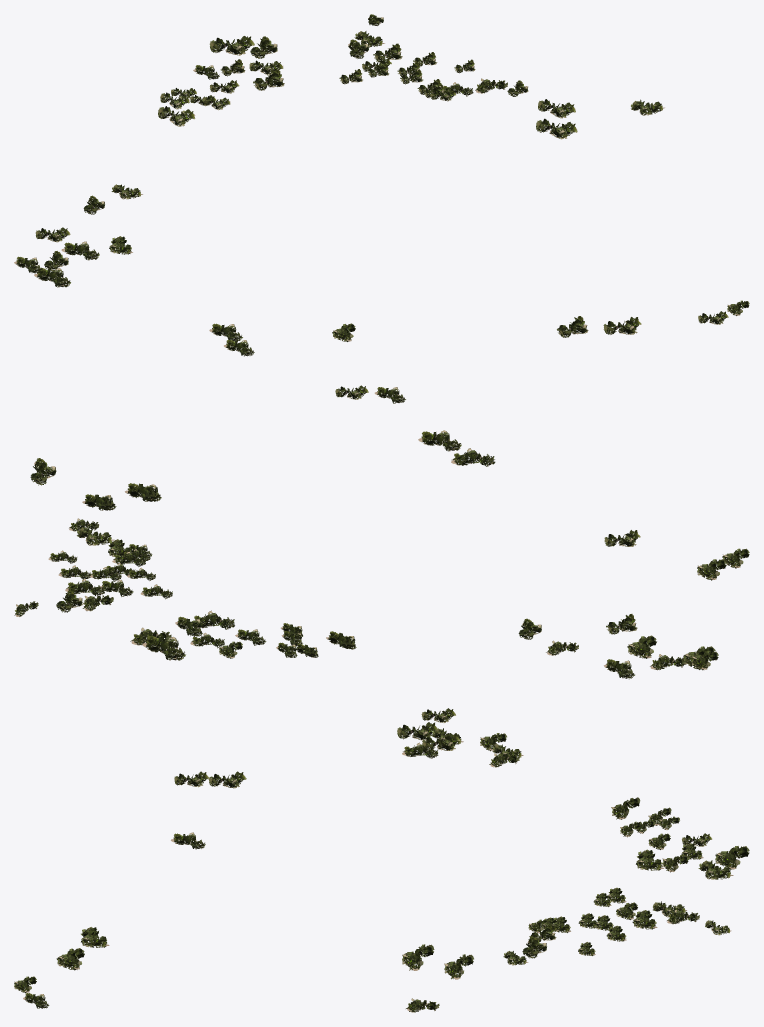
Rendered from Arbustos01.glb.
3 renders of one model, top to bottom at view 1: azimuth 30°, elevation 25°; view 2: azimuth 150°, elevation 25°; view 3: azimuth 270°, elevation 25°, orthographic. The views are drawn at different scales.
Parts seen in each view (by area): view 1: temp_mesh.ply.933; view 2: temp_mesh.ply.933; view 3: temp_mesh.ply.933.
Boxes of the visible parts, left/top/right/bottom form: temp_mesh.ply.933: left=14, top=14, right=749, bottom=356; temp_mesh.ply.933: left=14, top=385, right=749, bottom=679; temp_mesh.ply.933: left=14, top=708, right=749, bottom=1012.
Bounding box in the file's own units: 102 × 11.83 × 99.93.
1 material, 1 textured.
